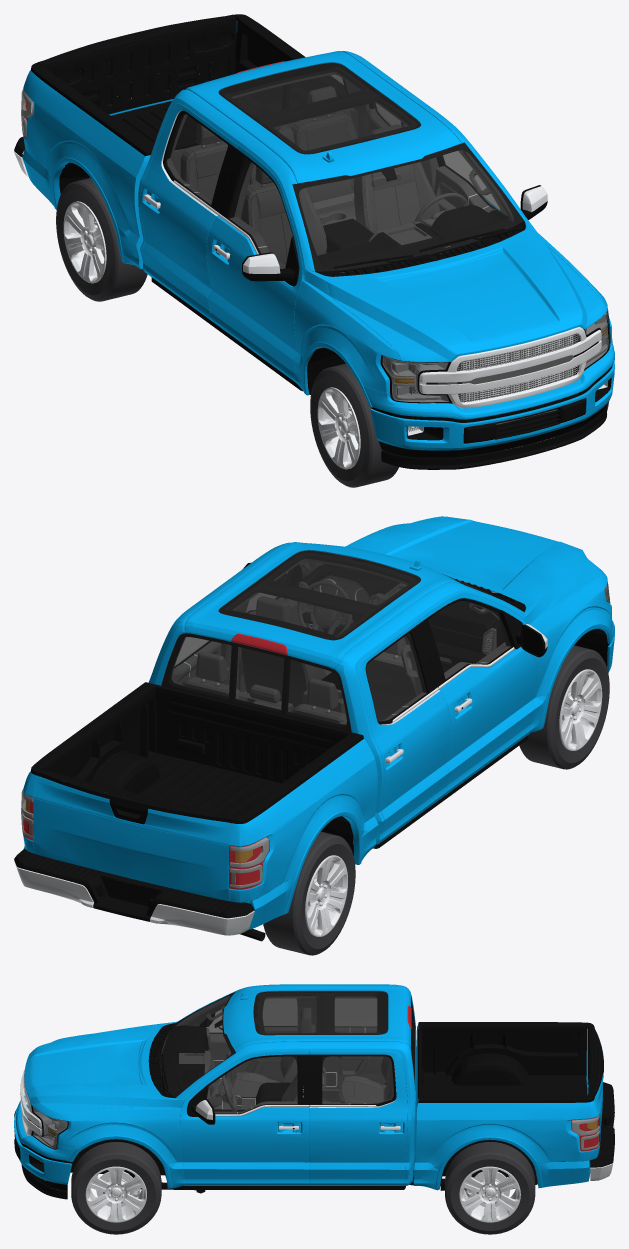
Rendered from truck.glb.
3 views of the same model, one above another, from view 1: azimuth 30°, elevation 25°; view 2: azimuth 150°, elevation 25°; view 3: azimuth 270°, elevation 25° (orthographic). The views are drawn at different scales.
Visible parts, largest first — view 1: Material2.009, Material2, Material2.013, Material2.002, Material2.001, Material2.004, Material2.016, Material2.005, Material2.003, Material2.012, Material2.006; view 2: Material2.009, Material2, Material2.013, Material2.002, Material2.016, Material2.001, Material2.005, Material2.004, Material2.003, Material2.006, Material2.014; view 3: Material2.009, Material2, Material2.013, Material2.002, Material2.016, Material2.001, Material2.005, Material2.004, Material2.006, Material2.003, Material2.012, Material2.014.
Part boxes in pixels (box(x1,y1,x2,y2)): Material2.009: box(22, 21, 614, 450); Material2: box(21, 14, 607, 456); Material2.013: box(21, 62, 523, 271); Material2.002: box(167, 72, 573, 424); Material2.001: box(14, 25, 612, 469); Material2.004: box(14, 110, 608, 443); Material2.016: box(56, 177, 608, 487); Material2.005: box(63, 186, 607, 469); Material2.003: box(241, 122, 466, 265); Material2.012: box(380, 308, 610, 403); Material2.006: box(22, 90, 608, 400); Material2.009: box(23, 516, 614, 929); Material2: box(17, 550, 607, 941); Material2.013: box(21, 550, 510, 889); Material2.002: box(171, 553, 514, 724); Material2.016: box(263, 645, 609, 955); Material2.001: box(14, 563, 609, 921); Material2.005: box(177, 562, 602, 936); Material2.004: box(14, 585, 607, 936); Material2.003: box(235, 582, 488, 720); Material2.006: box(22, 587, 607, 888); Material2.014: box(23, 795, 266, 889); Material2.009: box(14, 984, 603, 1190); Material2: box(14, 991, 614, 1194); Material2.013: box(159, 991, 600, 1151); Material2.002: box(31, 995, 393, 1136); Material2.016: box(71, 1142, 535, 1234); Material2.001: box(14, 1023, 613, 1199); Material2.005: box(44, 1060, 520, 1222); Material2.004: box(20, 1028, 614, 1222); Material2.006: box(38, 1115, 599, 1198); Material2.003: box(206, 1006, 326, 1112); Material2.012: box(31, 1105, 600, 1149); Material2.014: box(571, 1117, 599, 1151).
Size of the model in its own units: 86.16 by 68.06 by 202.
60 materials, 51 textured.
